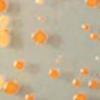orange: (3, 76, 22, 93), (32, 29, 48, 46), (14, 57, 26, 73), (69, 77, 83, 90), (84, 78, 96, 92), (48, 66, 62, 78), (86, 31, 98, 41), (78, 68, 90, 78), (83, 0, 100, 7), (73, 91, 86, 100), (22, 92, 36, 100), (0, 0, 8, 13)
yellow: (0, 32, 10, 50), (0, 15, 11, 31), (31, 0, 47, 6), (0, 74, 4, 90)
